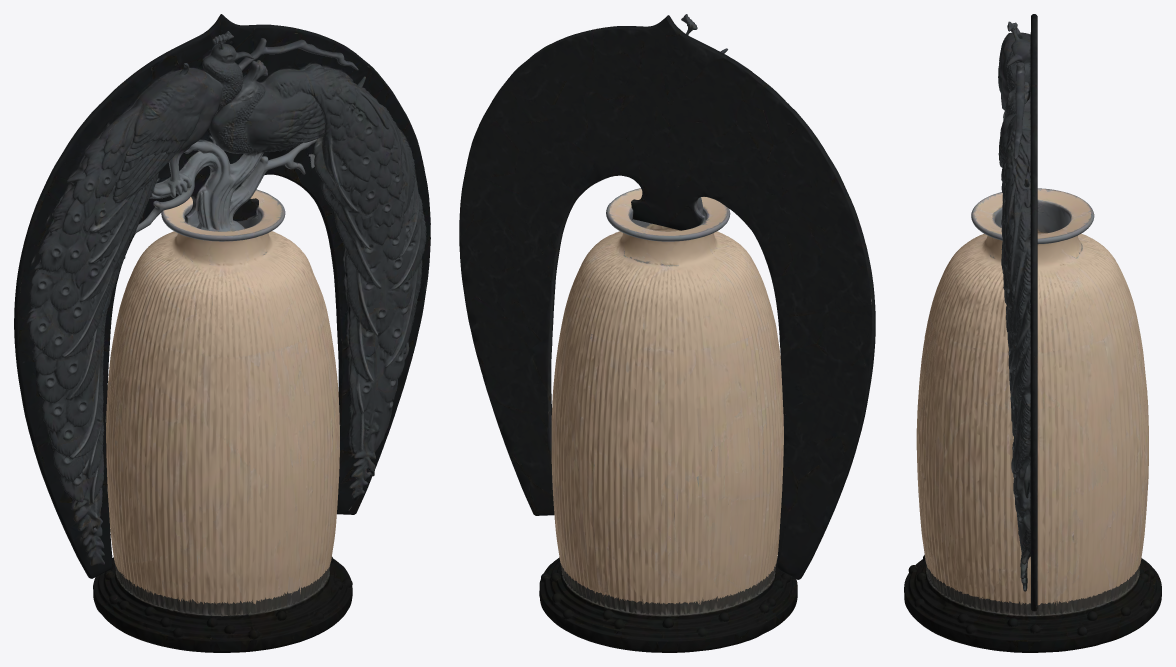
The model's file is peacock-lantern-mobile.glb.
3 views of the same model, side by side, from view 1: azimuth 30°, elevation 25°; view 2: azimuth 150°, elevation 25°; view 3: azimuth 270°, elevation 25° (orthographic).
Visible parts, largest first — view 1: Peacock Perfume Object - Restored; view 2: Peacock Perfume Object - Restored; view 3: Peacock Perfume Object - Restored.
Part boxes in pixels (x1,y1,x2,y2): Peacock Perfume Object - Restored: [14, 14, 430, 652]; Peacock Perfume Object - Restored: [459, 14, 875, 652]; Peacock Perfume Object - Restored: [904, 14, 1161, 652].
Size of the model in its own units: 1.41 by 1.9 by 0.7644.
Materials: 4 (3 with a texture image).
